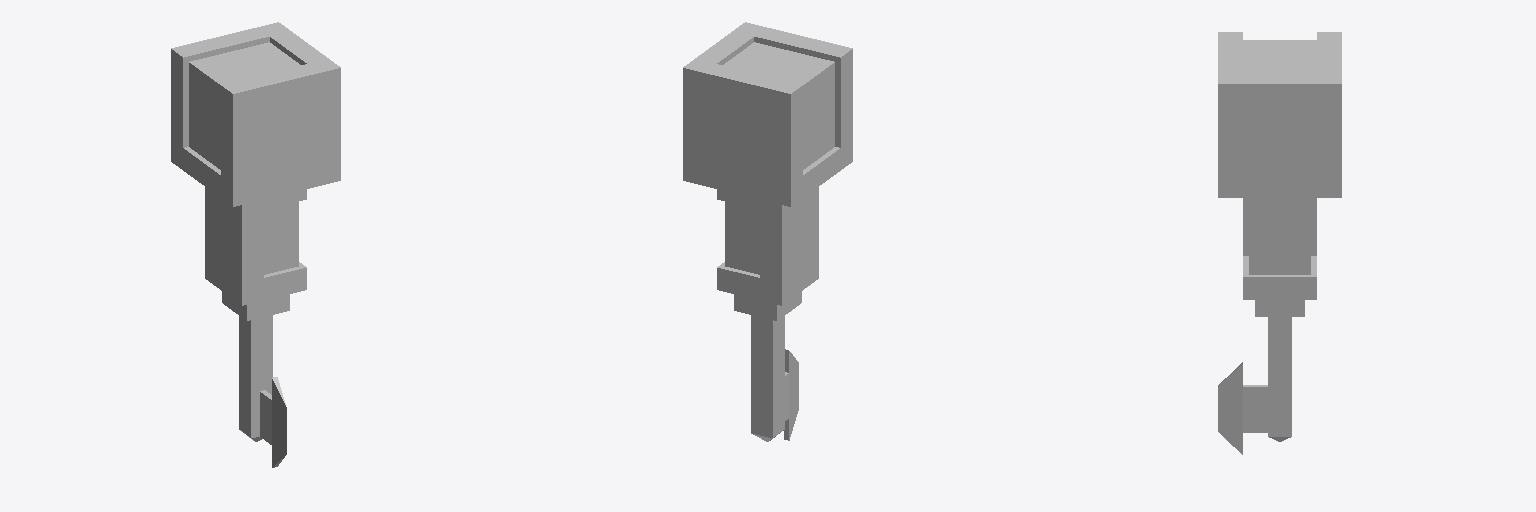
The model's file is arm_axe_l.obj.
The picture shows the model from 3 angles: view 1: azimuth 30°, elevation 25°; view 2: azimuth 150°, elevation 25°; view 3: azimuth 270°, elevation 25°; orthographic projection.
Visible parts, largest first — view 1: ARM_LEFT_AXE_Cube.027; view 2: ARM_LEFT_AXE_Cube.027; view 3: ARM_LEFT_AXE_Cube.027.
Part boxes in pixels (bbox=[...]): ARM_LEFT_AXE_Cube.027: bbox=[171, 22, 340, 467]; ARM_LEFT_AXE_Cube.027: bbox=[683, 22, 852, 441]; ARM_LEFT_AXE_Cube.027: bbox=[1218, 32, 1341, 454].
Size of the model in its own units: 0.3125 by 1.09 by 0.3125.